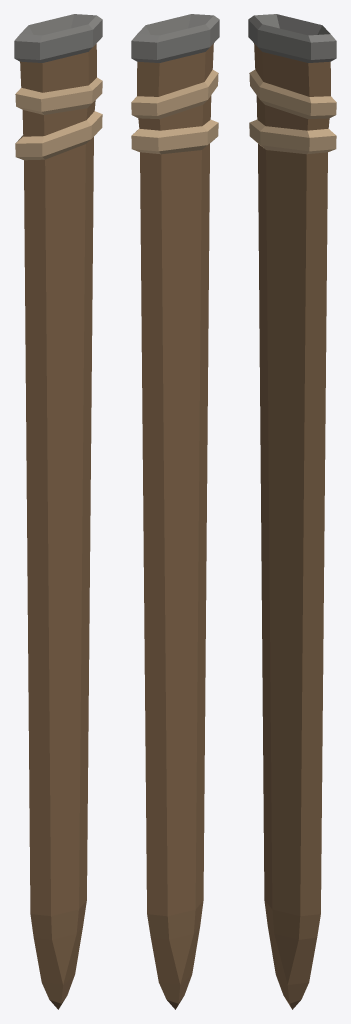
Rendered from SM_pwe_medieval_sword_scabbard_02.fbx.
3 renders of one model, left to right at view 1: azimuth 30°, elevation 25°; view 2: azimuth 210°, elevation 25°; view 3: azimuth 330°, elevation 25°, orthographic.
Visible parts, largest first — view 1: SM_pwe_medieval_sword_scabbard_02; view 2: SM_pwe_medieval_sword_scabbard_02; view 3: SM_pwe_medieval_sword_scabbard_02.
Part boxes in pixels (left/top/right/bottom): SM_pwe_medieval_sword_scabbard_02: left=14, top=14, right=102, bottom=1009; SM_pwe_medieval_sword_scabbard_02: left=131, top=14, right=219, bottom=1009; SM_pwe_medieval_sword_scabbard_02: left=248, top=14, right=336, bottom=1009.
Size of the model in its own units: 8.13 by 86.38 by 2.58.
